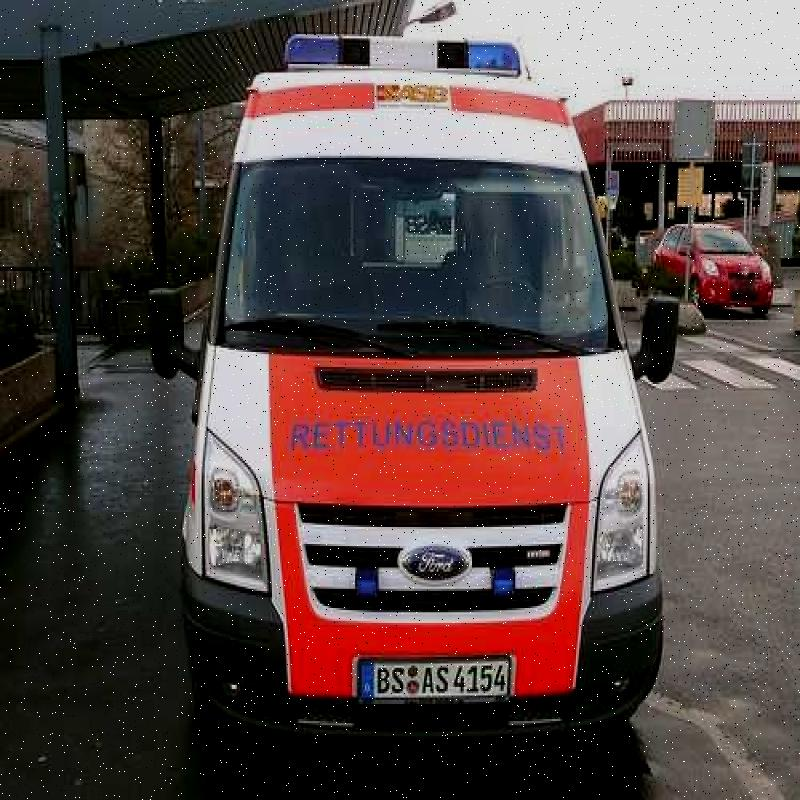AmbulanceSiren: (260, 0, 536, 109)
